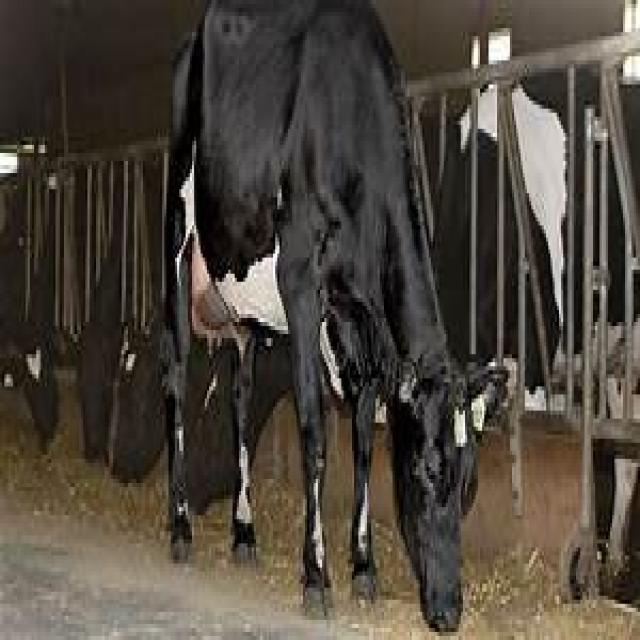cow: (175, 0, 508, 632)
